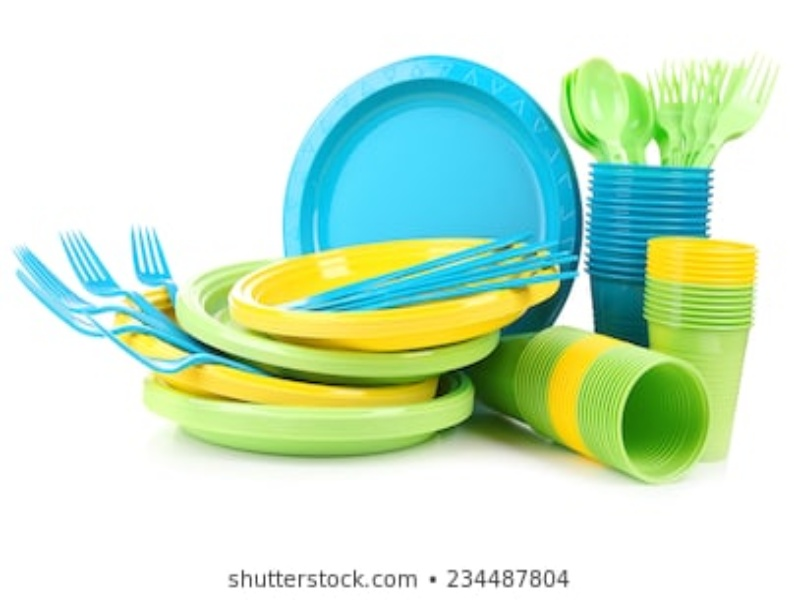plastic-cup: (484, 327, 704, 482), (584, 161, 718, 355), (646, 235, 758, 463)
plastic-plate: (277, 51, 579, 330), (183, 259, 521, 374), (117, 288, 444, 404), (232, 242, 560, 348), (141, 382, 480, 452)
plastic-silverware: (9, 246, 202, 344), (60, 227, 203, 342), (10, 266, 198, 341), (85, 310, 266, 375), (696, 52, 782, 159), (575, 58, 635, 163), (126, 224, 184, 301), (612, 68, 655, 159), (659, 68, 693, 161)
